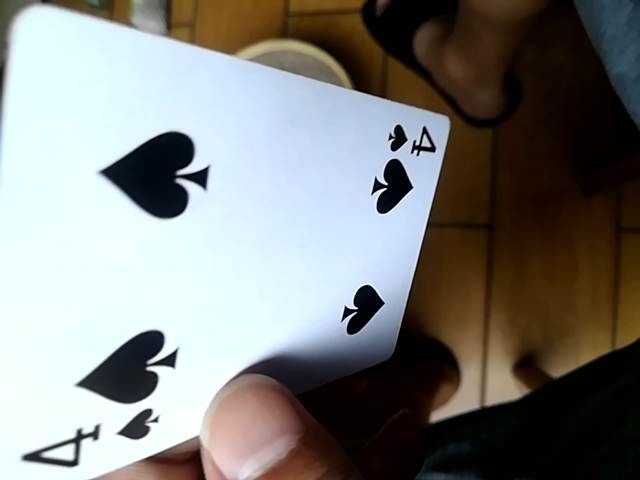ht 4: (0, 8, 454, 475)
